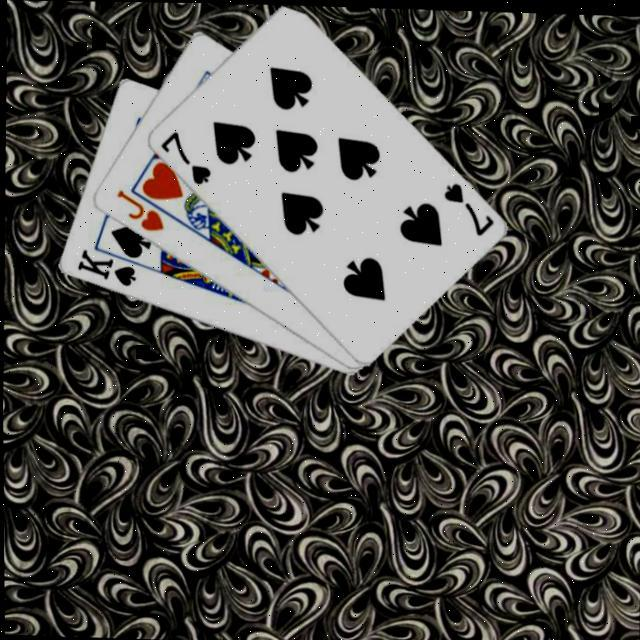7S: (153, 125, 212, 185), (436, 176, 493, 236)
JH: (110, 183, 165, 233)
KS: (70, 244, 136, 287)
